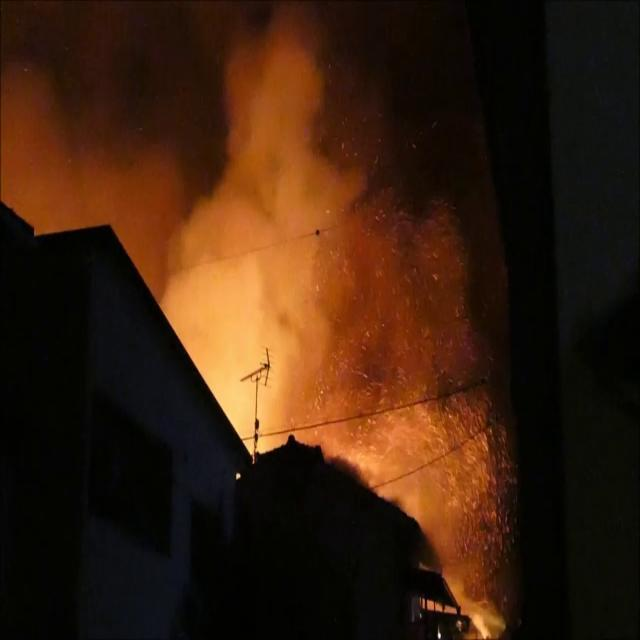Smoke: (2, 1, 460, 427)
